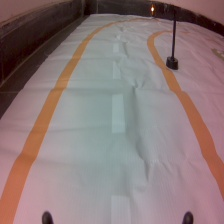yellow: (149, 1, 180, 72)
